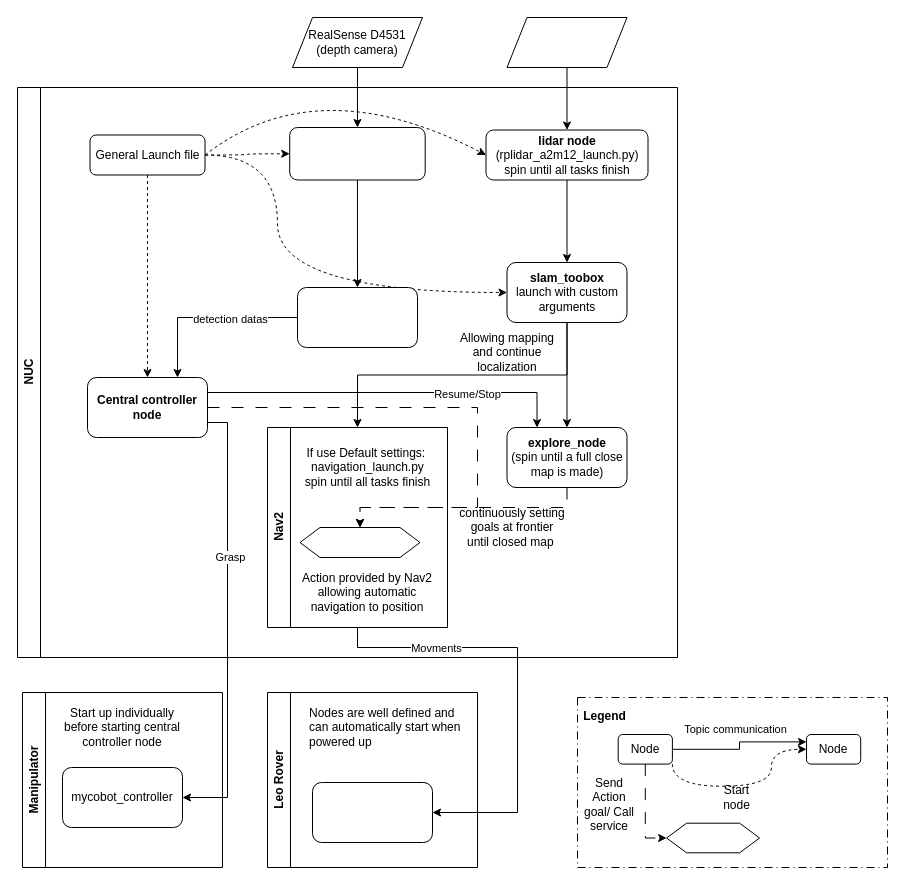
Some shapes in this 905 by 885 pixel diagram are drawn without their labels. The centre of each missing label's shape, as x and y in pixels:
"Action/Service" goes at point (713, 837).
"camera node (rs_launch.py) spin until all tasks finish" goes at point (357, 153).
"Leo_core Firmware" goes at point (372, 812).
"NavigateToPose" goes at point (359, 542).
"rover_vision_node spin until all tasks are finish" goes at point (357, 317).
"RPLidar A2M12 (2D Lidar)" goes at point (566, 42).
